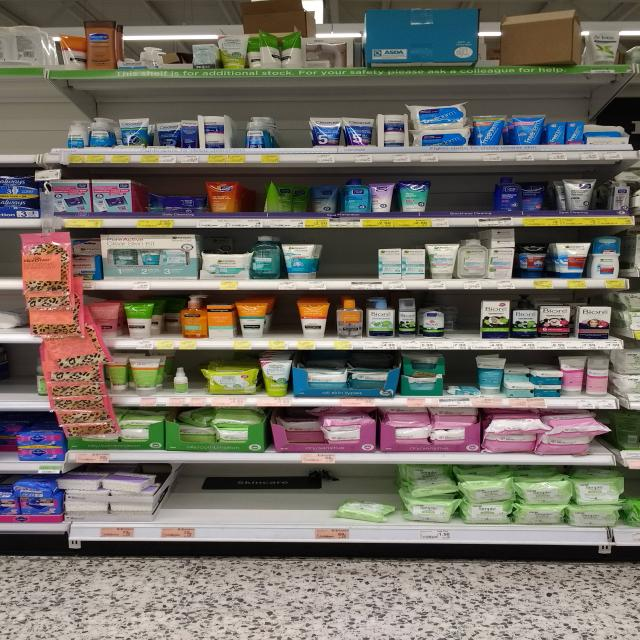void: (167, 477, 206, 542), (307, 467, 339, 545), (270, 470, 303, 542), (26, 82, 50, 166), (318, 233, 353, 290), (0, 83, 22, 165), (212, 477, 239, 541), (431, 173, 462, 225), (244, 472, 266, 540), (449, 296, 477, 349), (24, 344, 44, 416), (240, 167, 262, 228), (52, 82, 67, 168), (283, 107, 306, 163), (465, 173, 490, 224), (354, 233, 376, 290), (0, 352, 21, 411), (270, 299, 293, 350), (119, 19, 137, 79), (0, 231, 17, 285), (167, 37, 187, 79), (482, 5, 495, 69)
